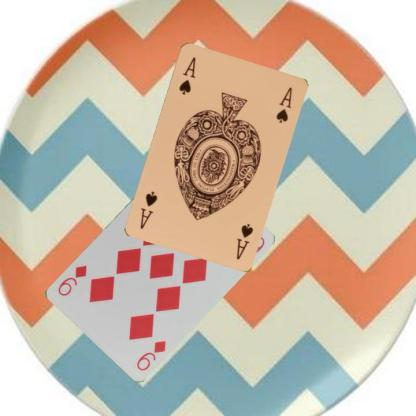9d: (134, 338, 168, 372)
As: (176, 54, 197, 96), (234, 220, 254, 261)
